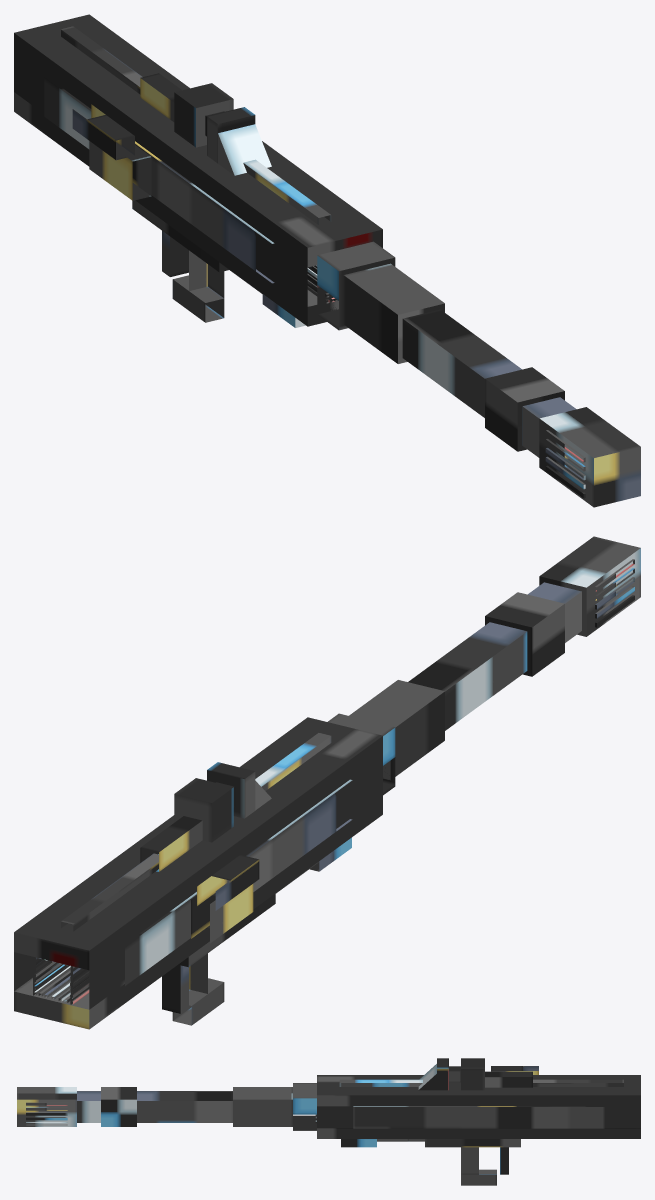
The model's file is rps-6.obj.
3 views of the same model, one above another, from view 1: azimuth 30°, elevation 25°; view 2: azimuth 150°, elevation 25°; view 3: azimuth 270°, elevation 25° (orthographic). The views are drawn at different scales.
Visible parts, largest first — view 1: cube; view 2: cube; view 3: cube.
Boxes of the visible parts, x1,y1,x2,y2 form: cube: (14,14,640,507); cube: (14,536,640,1029); cube: (17,1058,640,1185).
Bounding box in the file's own units: 0.1653 × 0.3063 × 1.45.
